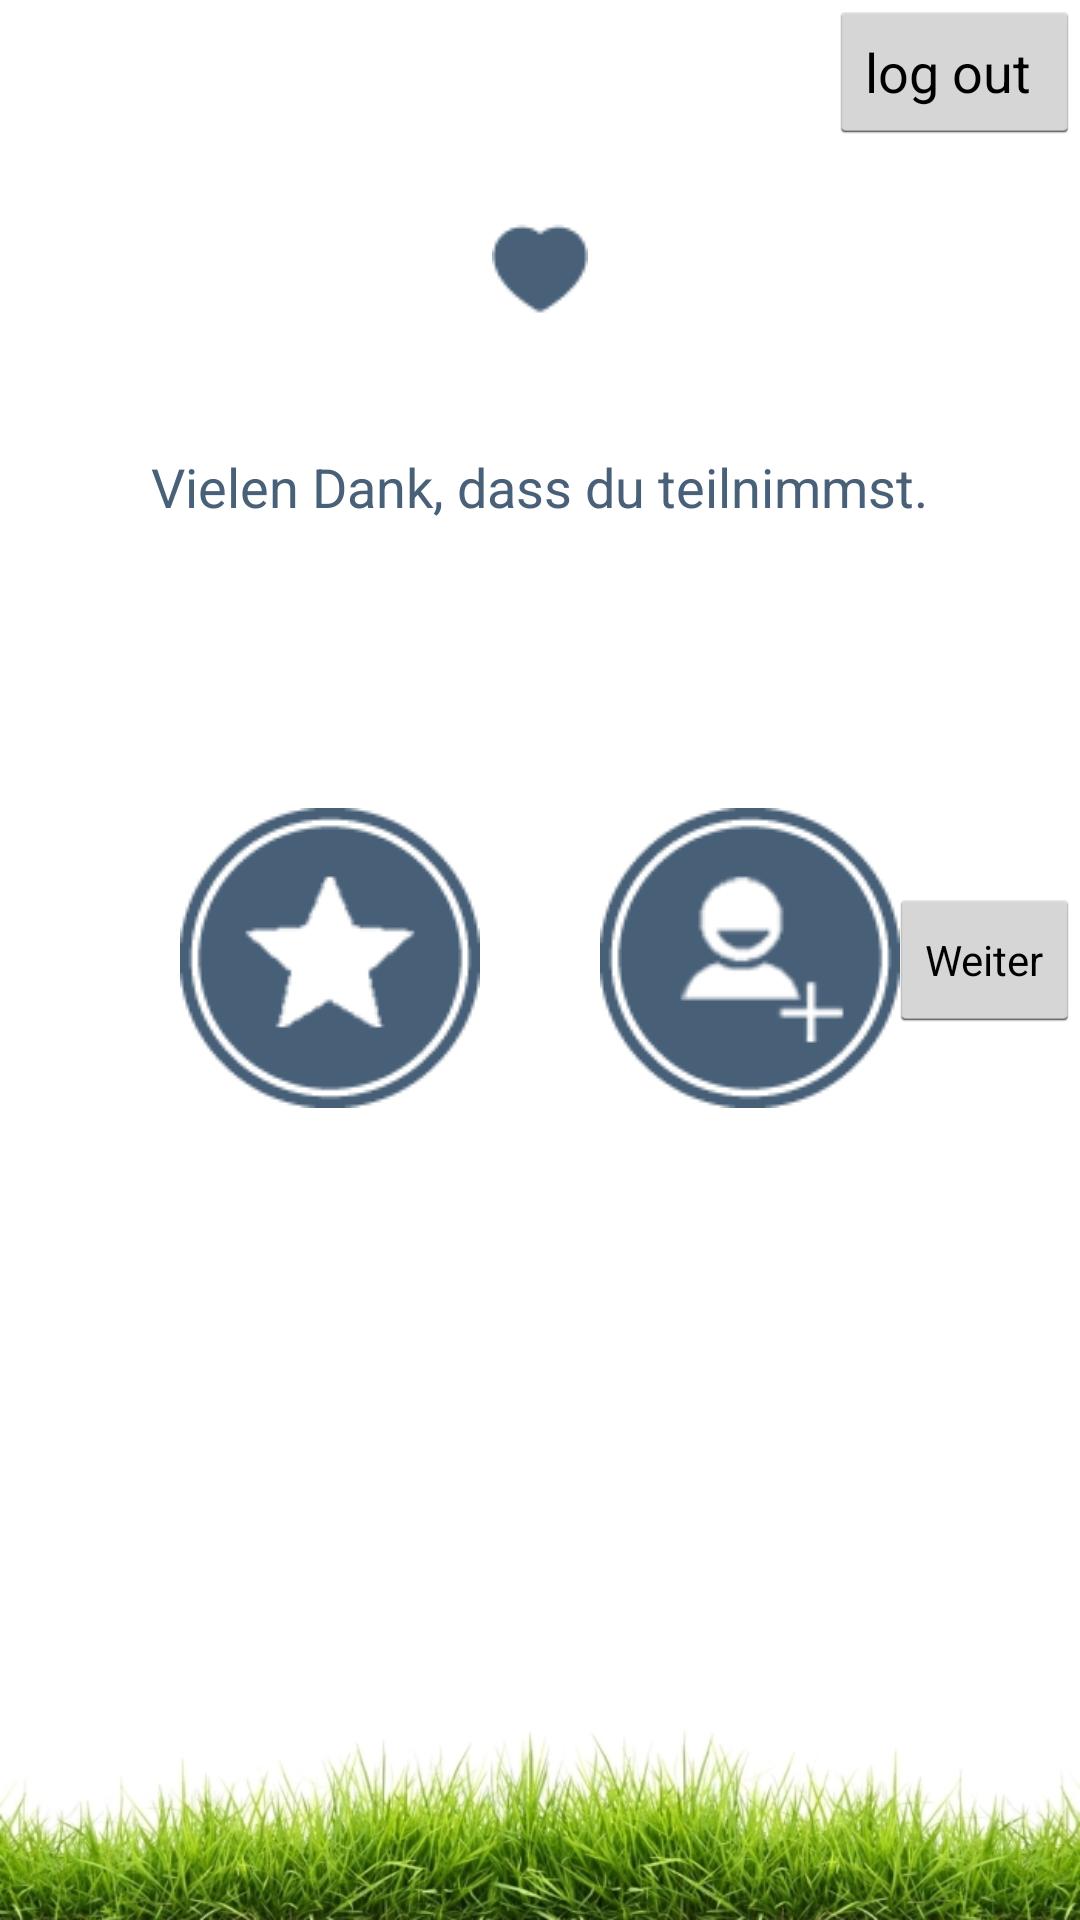

Icon click points for this 1080w x 1920h phone screenshot, format [x,y]:
addmember: [750,958]
heart: [540,269]
star: [330,958]
